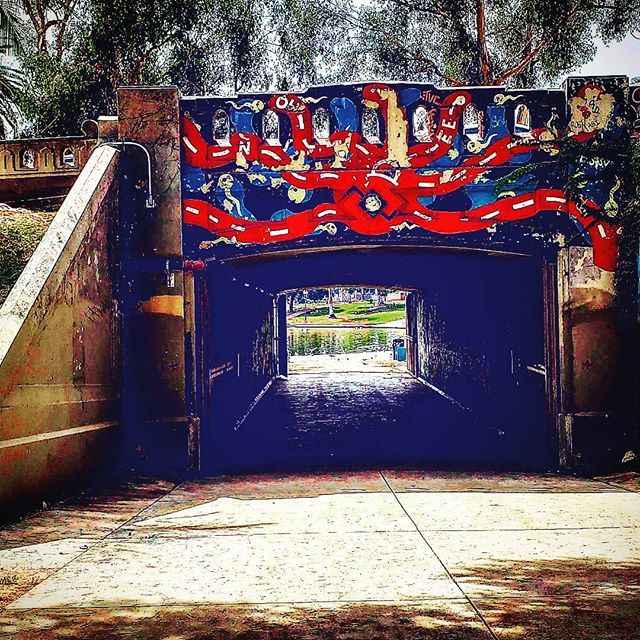graffiti: (133, 89, 634, 267)
tunnel: (191, 246, 567, 521)
